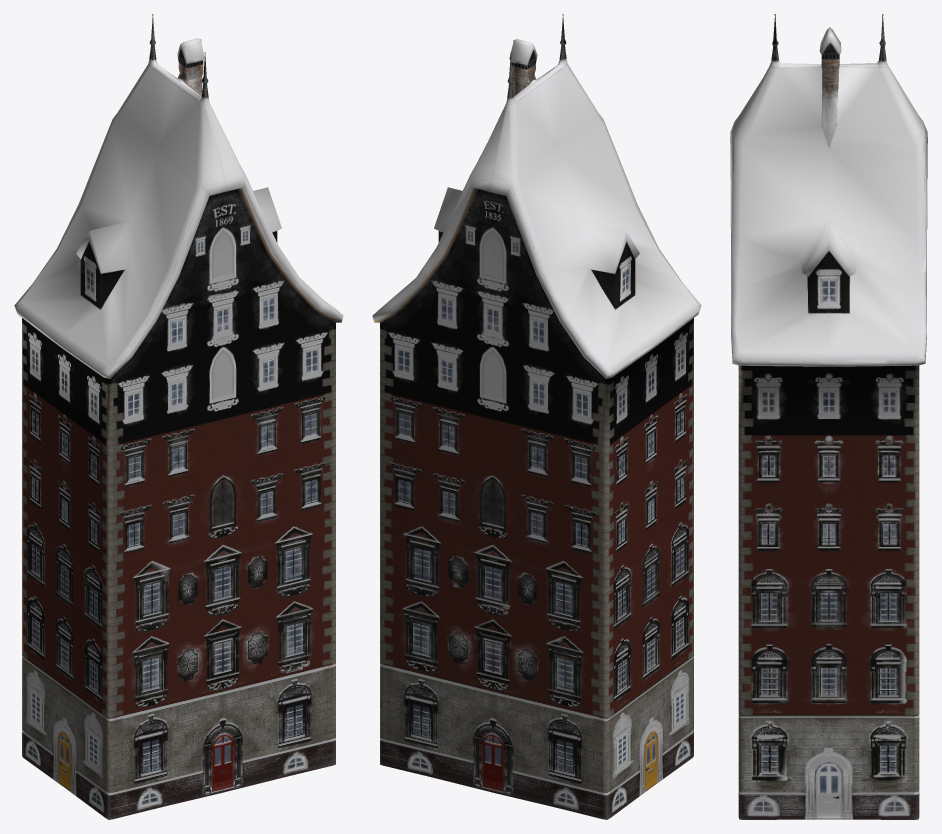
File: House-9.FBX
3 views of the same model, side by side, from view 1: azimuth 30°, elevation 25°; view 2: azimuth 150°, elevation 25°; view 3: azimuth 270°, elevation 25° (orthographic). The views are drawn at different scales.
Parts seen in each view (by area): view 1: House-9; view 2: House-9; view 3: House-9.
Boxes of the visible parts, x1,y1,x2,y2 form: House-9: [14, 14, 343, 819]; House-9: [372, 14, 701, 819]; House-9: [730, 14, 927, 819].
Bounding box in the file's own units: 38.14 × 109 × 26.18.
1 material, 1 textured.
